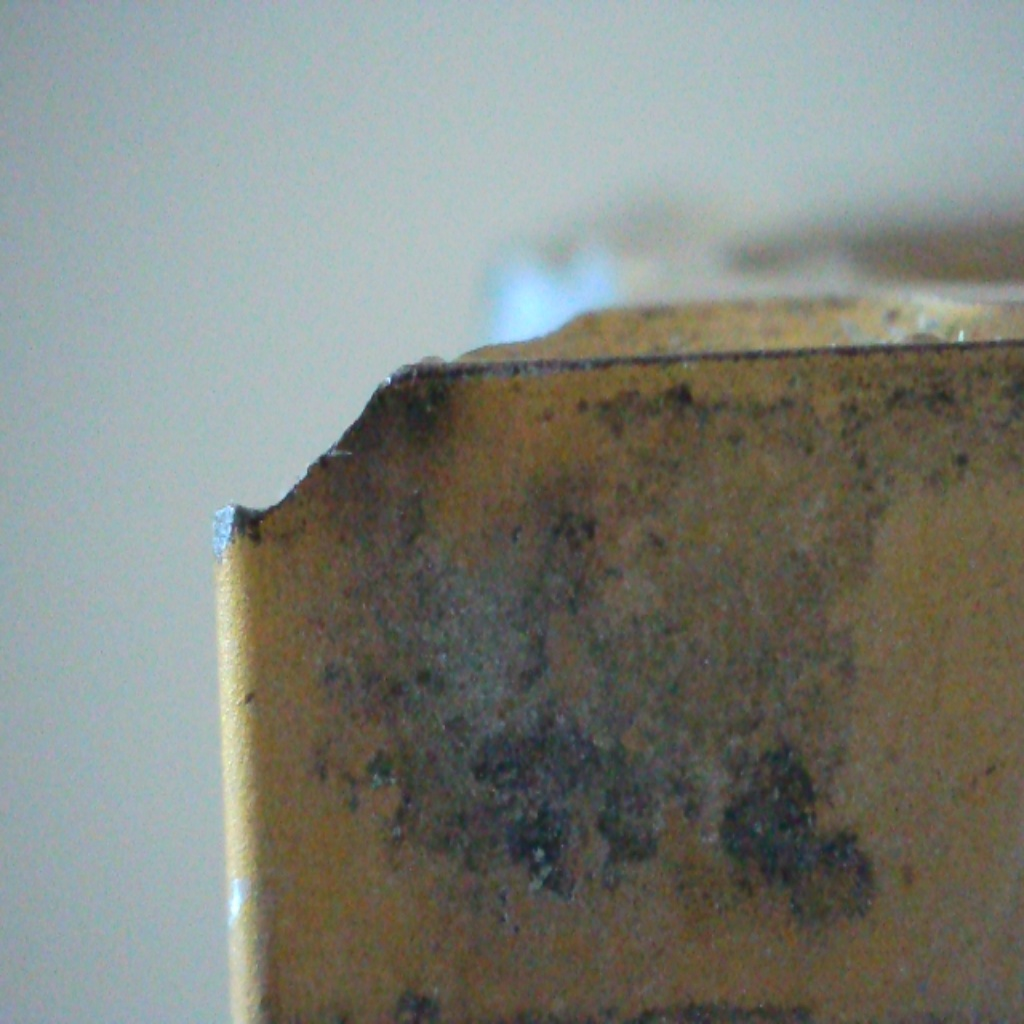flank_wear: (198, 493, 250, 551)
